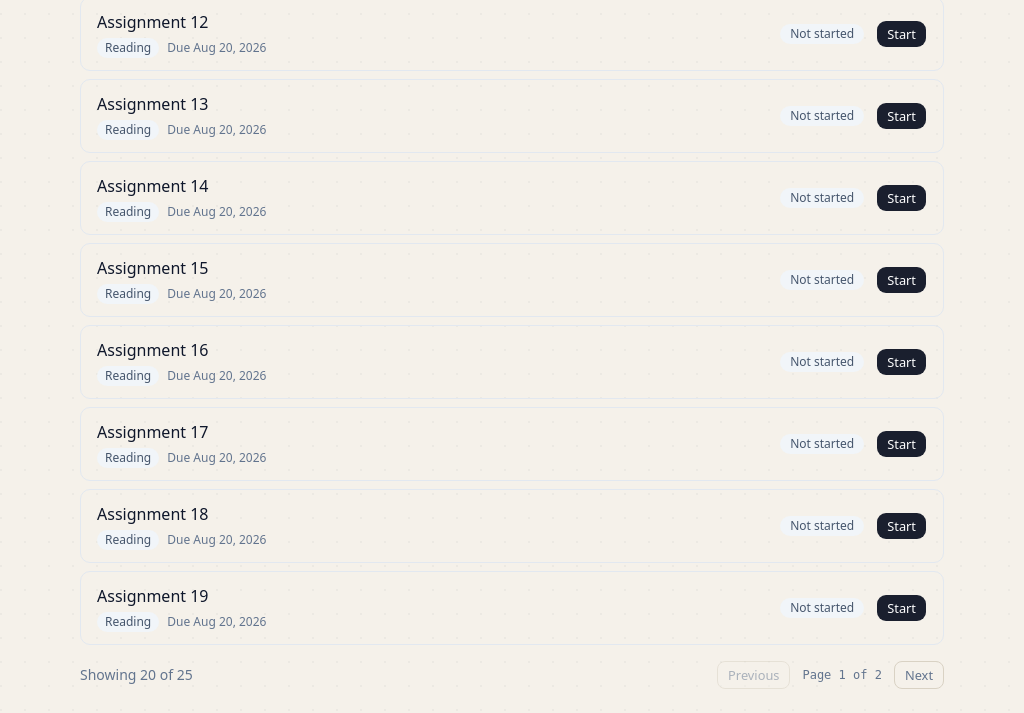
Scenario: AssignmentsListPage — pagination (AC3) › next page fetches the next slice; indicator updates
(page scrolled)
Expected: the text "Assignment 19" is shown, x1=97 y1=585 x2=208 y2=607
Expected: the text "Assignment 20" is not shown
Click the button with test id "assignments-next" at coordinates (919, 675), box x1=894 y1=661 x2=944 y2=689
(page scrolled)
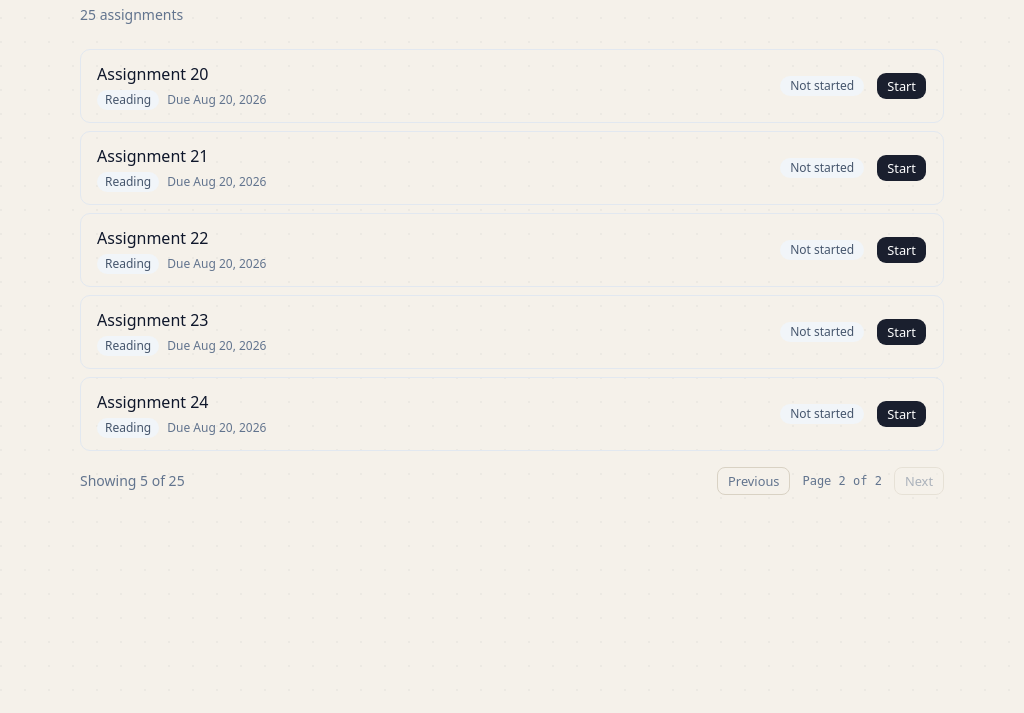
Expected: the text with test id "assignments-page-indicator" shows "2", x1=802 y1=474 x2=882 y2=488
Expected: the text "Assignment 20" is shown, x1=97 y1=63 x2=208 y2=85
